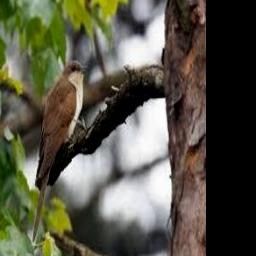Cuckoo: (32, 61, 88, 242)
